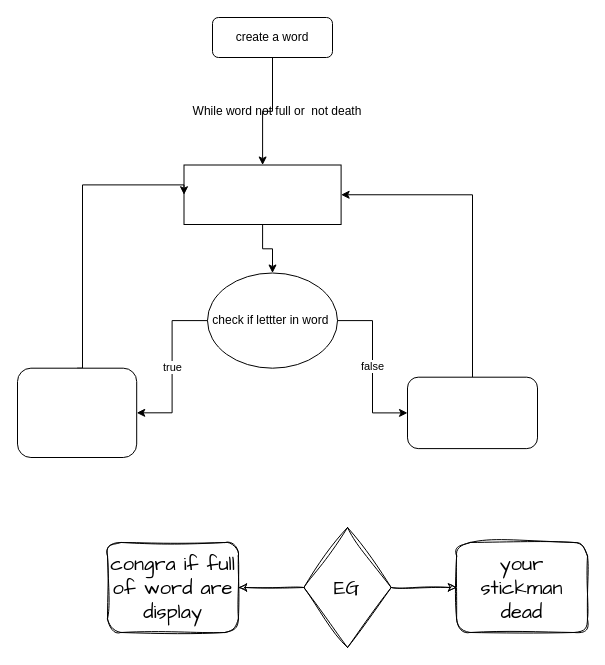
The diagram is 605 pixels wide and 665 high, and some of its shapes have lost their labels. Here are the shapes that lost their labels. From the top down, the box of each, then its label:
(183, 164, 341, 224): player input letter
(16, 367, 137, 458): display the letter on the screen
(406, 376, 538, 449): -1 life draw stickman
